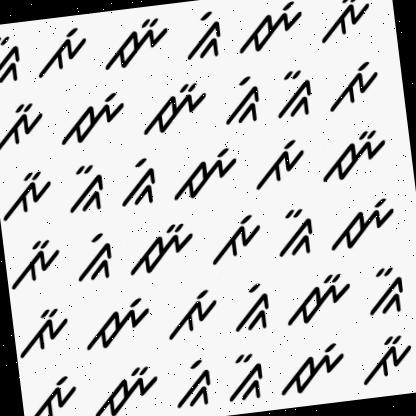an: (354, 326, 416, 387), (0, 165, 59, 226), (4, 235, 64, 292), (13, 303, 73, 360), (315, 0, 376, 49), (0, 95, 48, 157)
ang: (30, 21, 94, 86), (246, 134, 310, 196), (322, 57, 385, 116), (162, 284, 223, 344), (205, 210, 266, 268), (21, 368, 85, 416)
nggan: (268, 202, 320, 261), (269, 65, 320, 125), (60, 158, 109, 218), (223, 348, 271, 406), (362, 262, 408, 318), (0, 30, 27, 90)
nggang: (112, 152, 167, 212), (168, 350, 218, 414), (66, 227, 118, 288), (180, 6, 228, 64), (226, 279, 274, 335), (218, 73, 264, 129)
njan: (132, 75, 214, 143), (120, 216, 200, 282), (276, 264, 356, 328), (93, 10, 174, 72), (314, 123, 390, 189), (86, 357, 166, 416)
njang: (51, 80, 130, 152), (274, 336, 352, 402), (322, 193, 402, 256), (164, 142, 242, 205), (232, 0, 311, 60), (80, 290, 156, 352)
